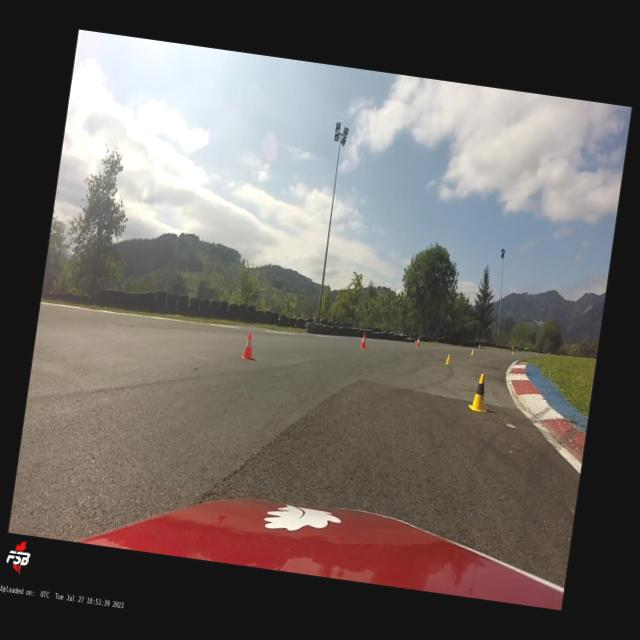orange_cone: (241, 332, 257, 360), (359, 334, 368, 349), (416, 338, 422, 348), (478, 344, 481, 349), (512, 350, 514, 355)
unknown_cone: (444, 354, 452, 366), (470, 348, 475, 356)
yellow_cone: (467, 372, 493, 413)
